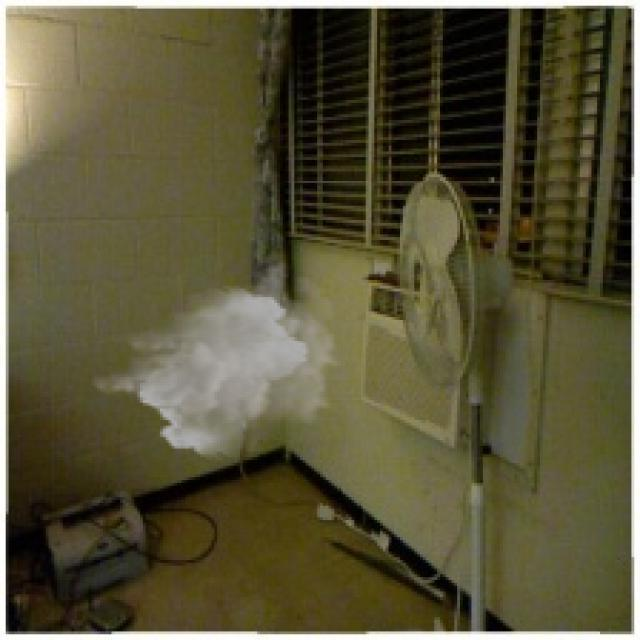Smoke: (88, 260, 343, 460)
